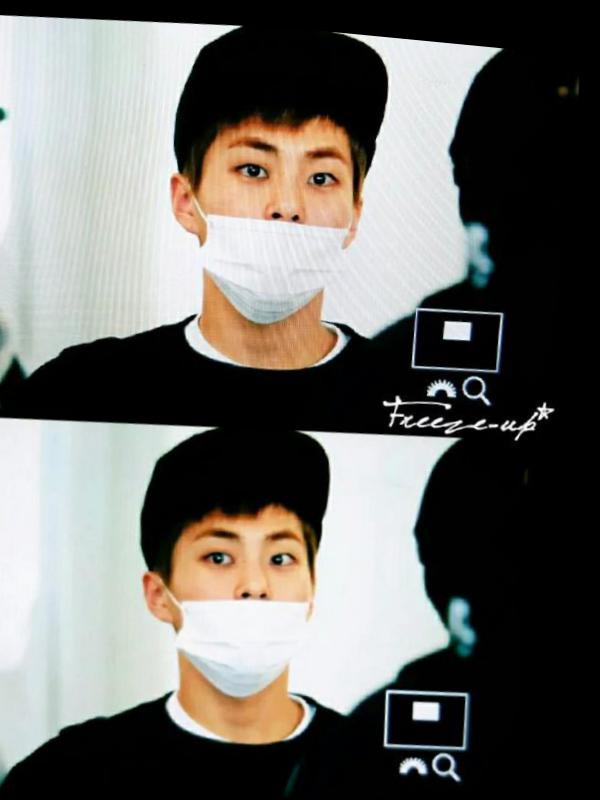WRONG: (188, 98, 369, 327), (167, 492, 332, 701)
